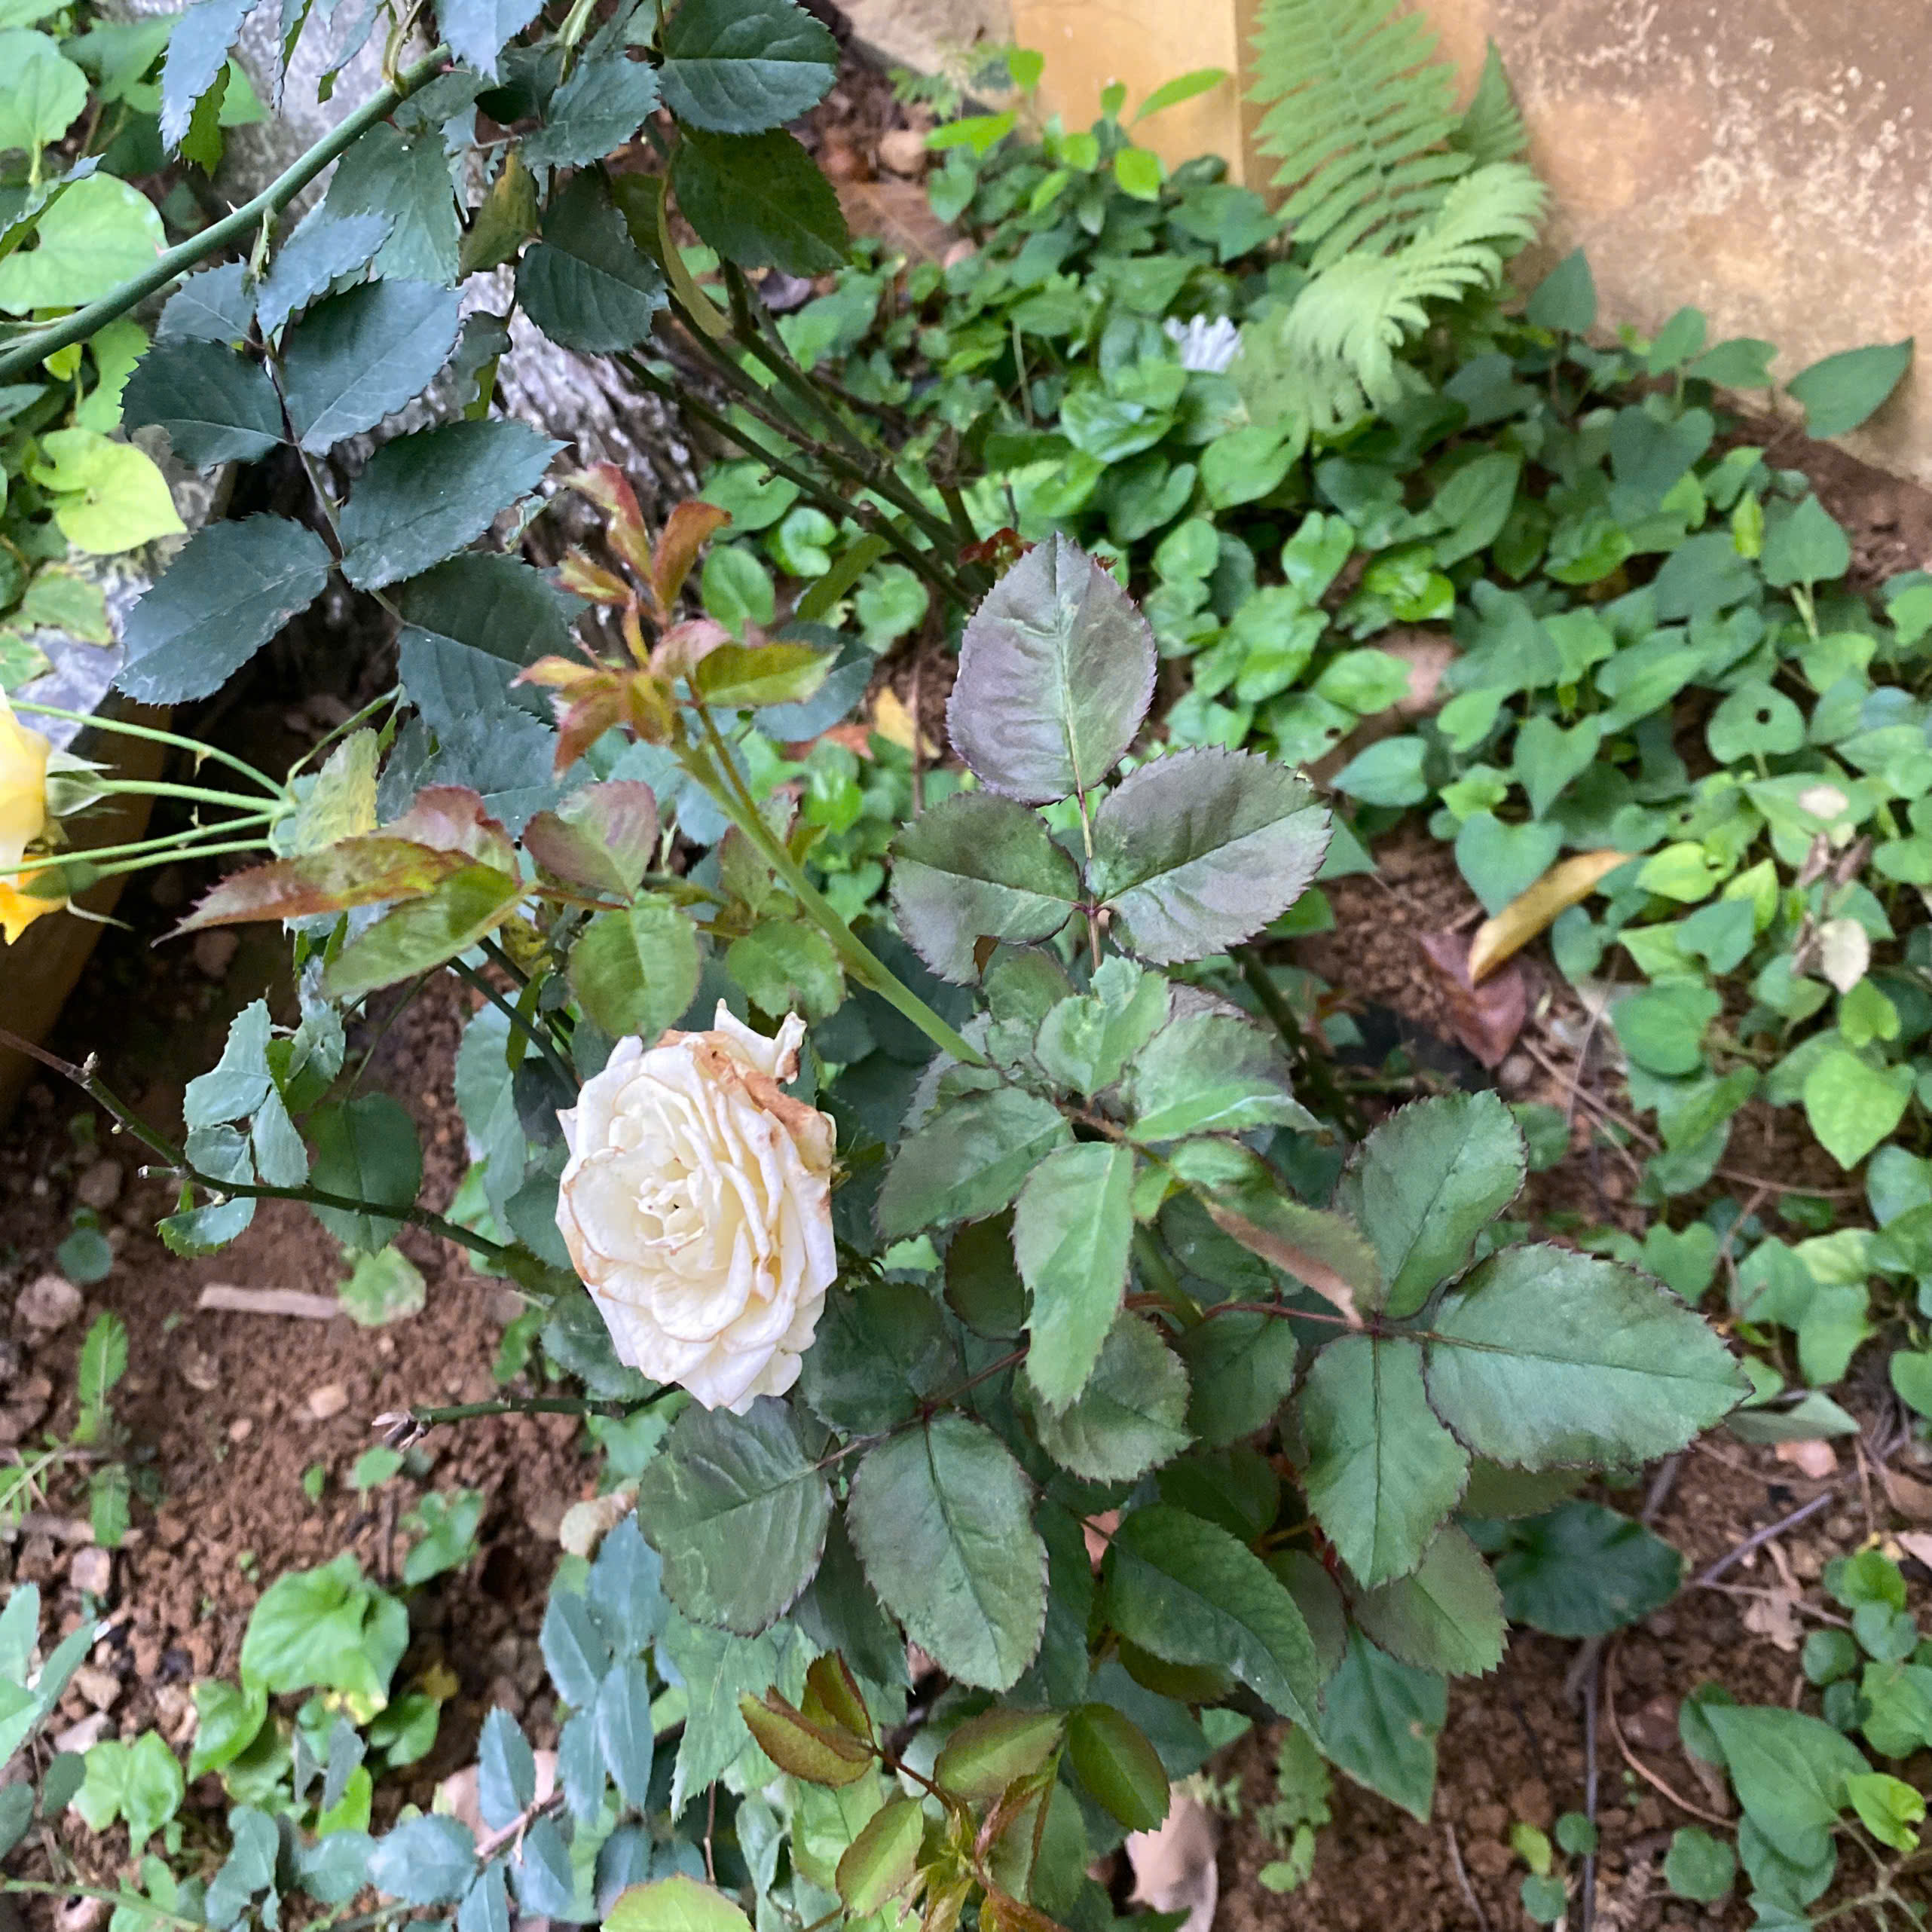hoa_thuoc_duoc: (168, 580, 1601, 1799)
